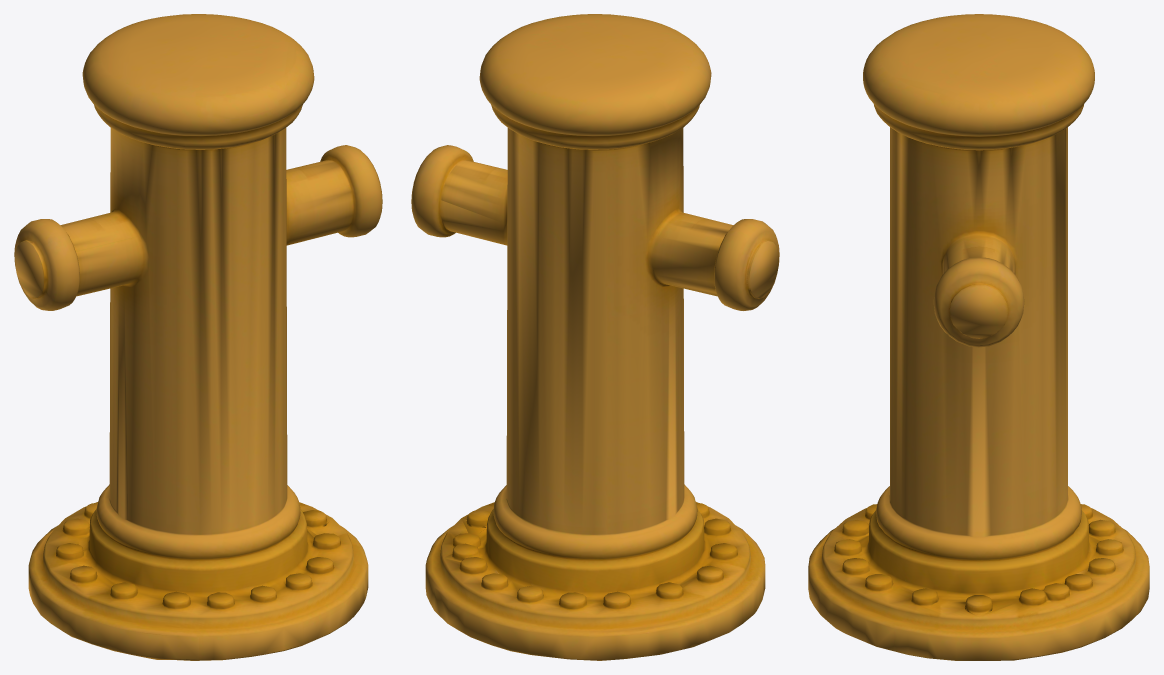
The model's file is a_bollard_bc0b9a2c_v3.glb.
3 views of the same model, side by side, from view 1: azimuth 30°, elevation 25°; view 2: azimuth 150°, elevation 25°; view 3: azimuth 270°, elevation 25° (orthographic).
Visible parts, largest first — view 1: material; view 2: material; view 3: material.
Part boxes in pixels (left/top/right/bottom): material: left=14, top=14, right=382, bottom=660; material: left=411, top=14, right=779, bottom=660; material: left=808, top=14, right=1149, bottom=660.
Size of the model in its own units: 1.23 by 1.9 by 1.08.
1 material, 1 textured.
